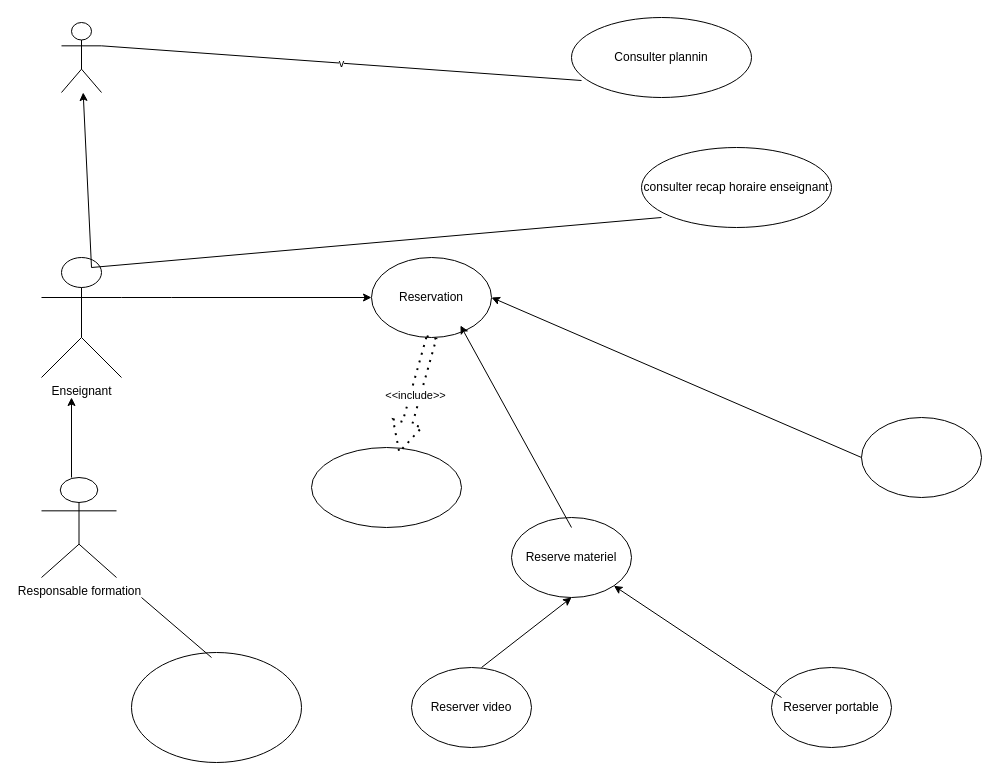
Some shapes in this 999 by 780 pixel diagram are drawn without their labels. Each missing label, with the box of its shape:
Editer recap formattion: (130, 652, 302, 762)
Reservation salle: (860, 416, 982, 498)
Utillisateur salle: (60, 22, 102, 92)
Verification disponibilite: (310, 446, 462, 528)
